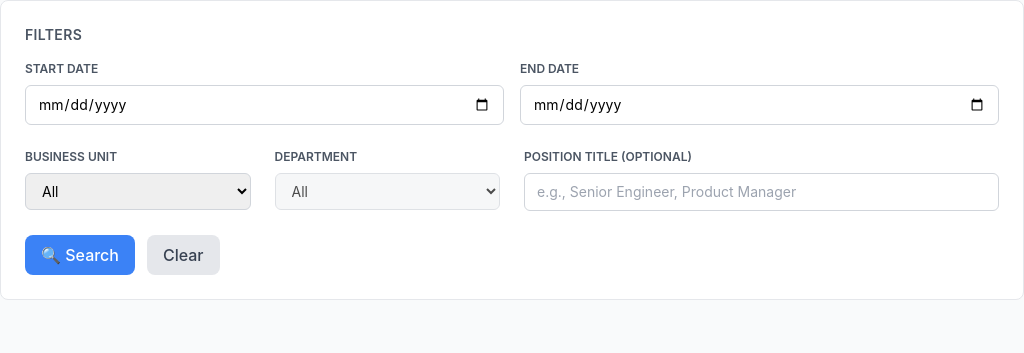
it: HistoricalTabQueryForm › Validation › should show error when start date is after end date
The image size is (1024, 353).
Type "2026-08-31" into the date field labelled "START DATE" at (264, 105), box [25, 85, 504, 125]
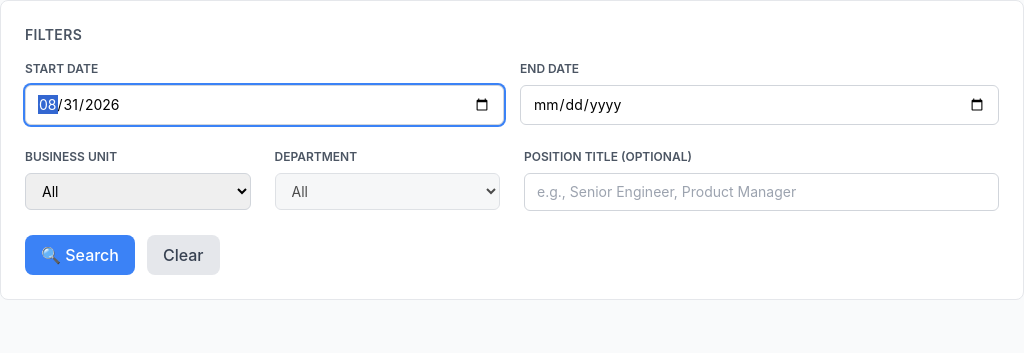
Type "2026-08-01" into the date field labelled "END DATE" at (760, 105), box [520, 85, 999, 125]
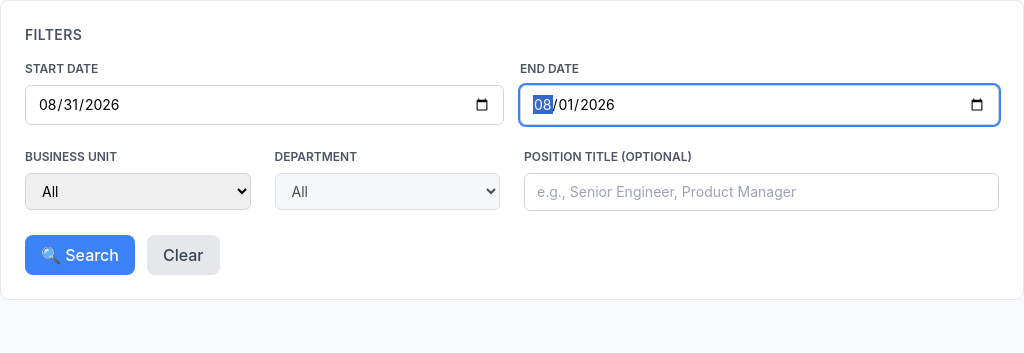
Click the button "🔍 Search" at (80, 255), box [25, 235, 135, 275]
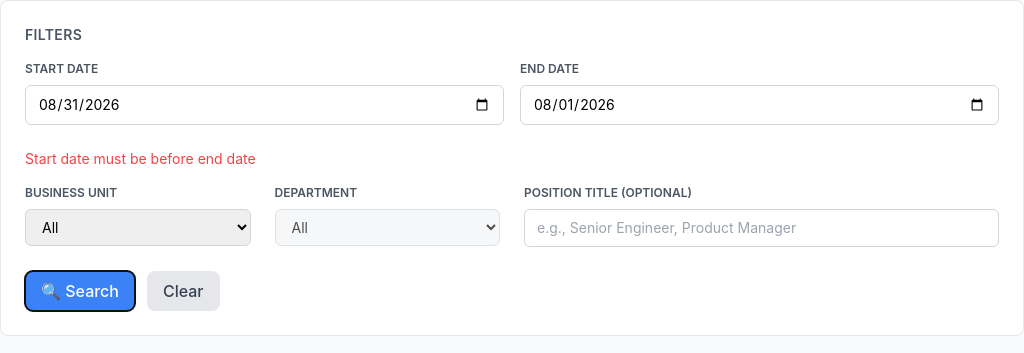
Check: the text "Start date must be before end date" is shown, box [25, 150, 256, 167]
